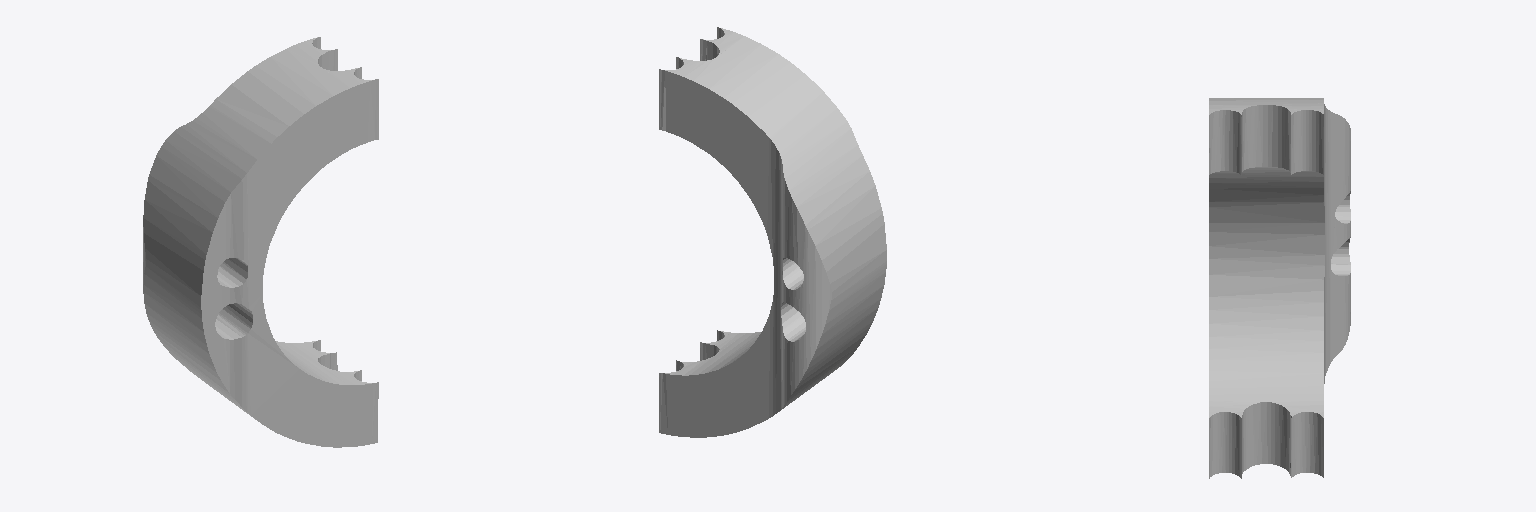
The model's file is seg11.OBJ.
The picture shows the model from 3 angles: view 1: azimuth 30°, elevation 25°; view 2: azimuth 150°, elevation 25°; view 3: azimuth 270°, elevation 25°; orthographic projection.
Parts seen in each view (by area): view 1: /ambf/env/seg11_seg11; view 2: /ambf/env/seg11_seg11; view 3: /ambf/env/seg11_seg11.
Boxes of the visible parts, box(x1,y1,x2,y2) form: /ambf/env/seg11_seg11: box(143, 37, 378, 447); /ambf/env/seg11_seg11: box(659, 27, 886, 437); /ambf/env/seg11_seg11: box(1209, 98, 1350, 478).
Size of the model in its own units: 0.003 by 0.006 by 0.0021.